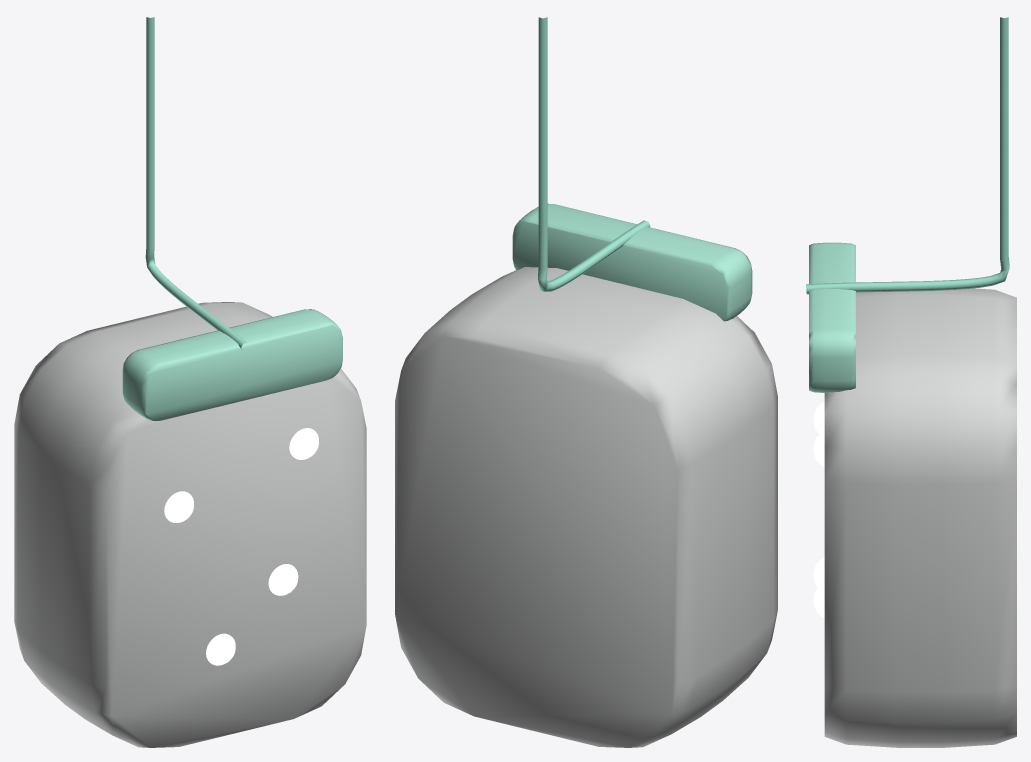
File: decor_3_mint.glb
3 views of the same model, side by side, from view 1: azimuth 30°, elevation 25°; view 2: azimuth 150°, elevation 25°; view 3: azimuth 270°, elevation 25° (orthographic). The views are drawn at different scales.
Parts seen in each view (by area): view 1: decor_3_mint; view 2: decor_3_mint; view 3: decor_3_mint.
Part boxes in pixels (x1=…): decor_3_mint: x1=14, y1=17, x2=366, y2=747; decor_3_mint: x1=395, y1=17, x2=777, y2=747; decor_3_mint: x1=806, y1=17, x2=1016, y2=747.
Size of the model in its own units: 5.35 by 12.17 by 3.36.
